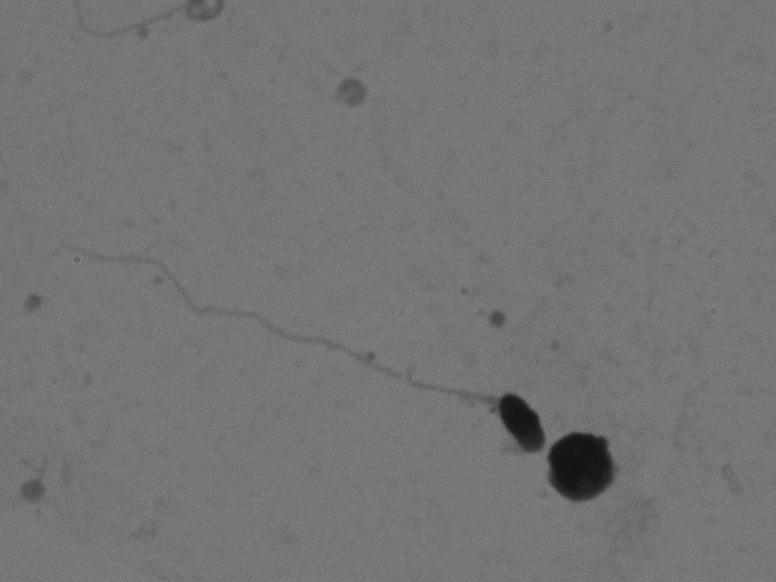Abnormal: (39, 184, 550, 482)
